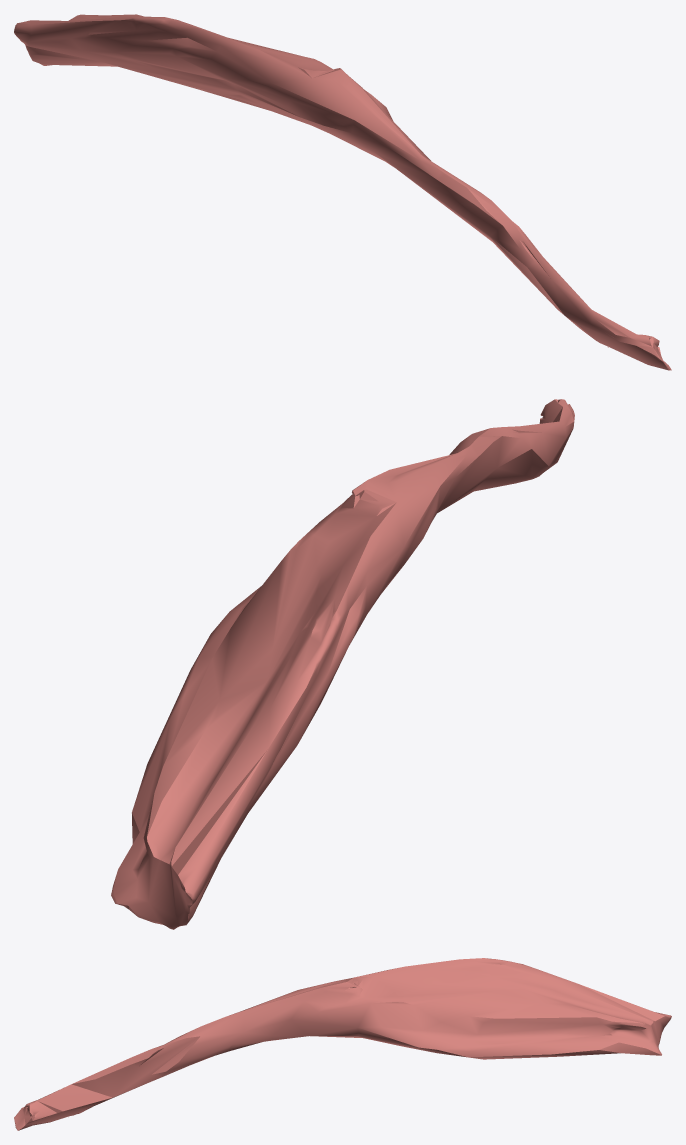
The model's file is fma37460_fj1400m.glb.
3 renders of one model, top to bottom at view 1: azimuth 30°, elevation 25°; view 2: azimuth 150°, elevation 25°; view 3: azimuth 270°, elevation 25°, orthographic. The views are drawn at different scales.
Visible parts, largest first — view 1: FMA37460_FJ1400M; view 2: FMA37460_FJ1400M; view 3: FMA37460_FJ1400M.
Boxes of the visible parts, x1,y1,x2,y2 form: FMA37460_FJ1400M: (14, 14, 671, 370); FMA37460_FJ1400M: (111, 399, 574, 929); FMA37460_FJ1400M: (14, 958, 671, 1130).
Bounding box in the file's own units: 0.0352 × 0.026 × 0.1362.
